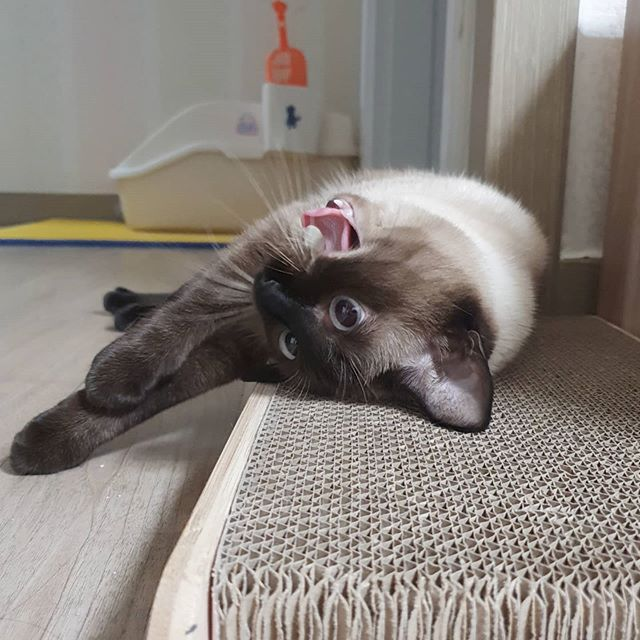cat: (245, 181, 499, 436)
